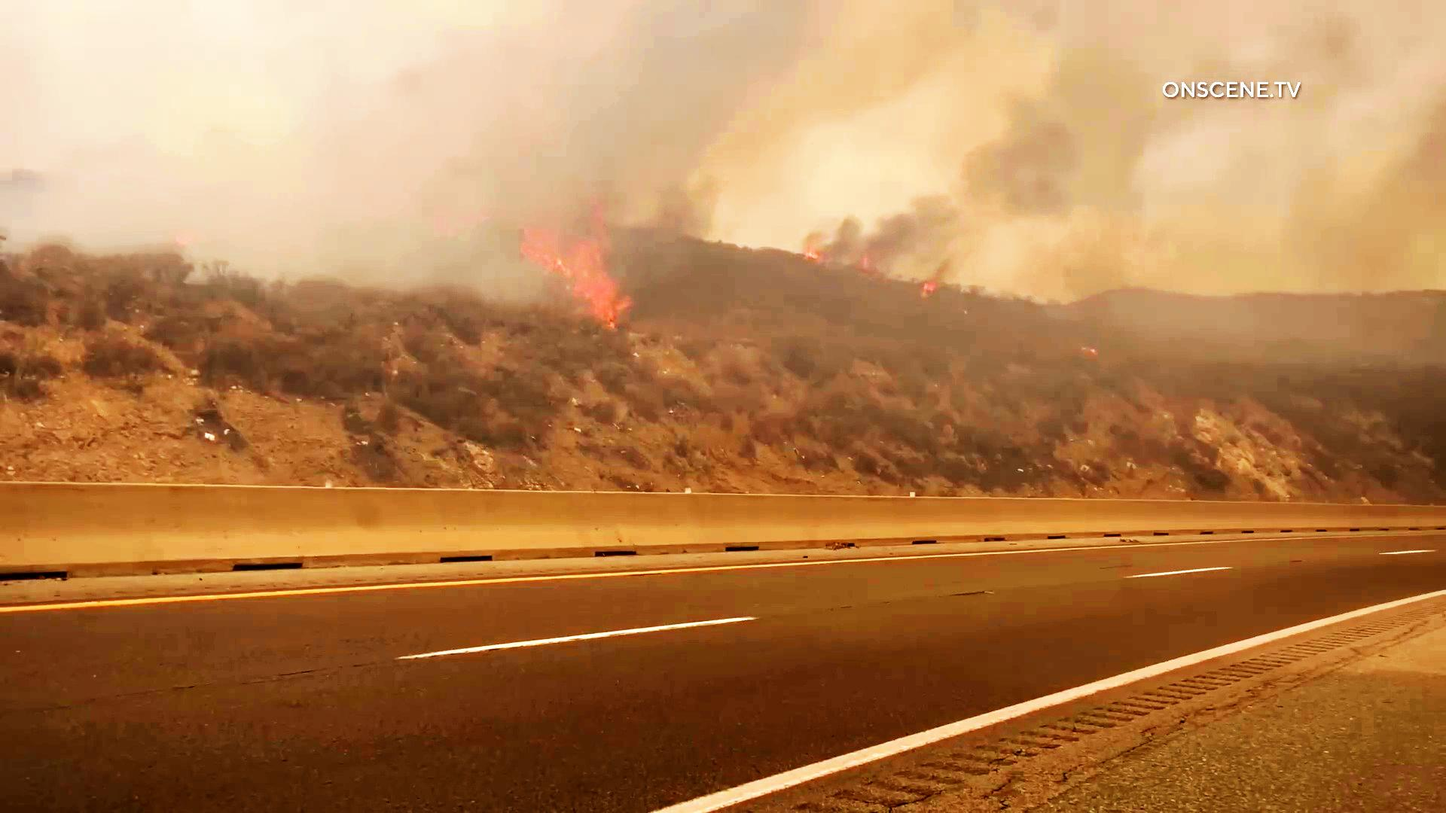fire: (529, 219, 633, 330), (802, 236, 828, 279)
